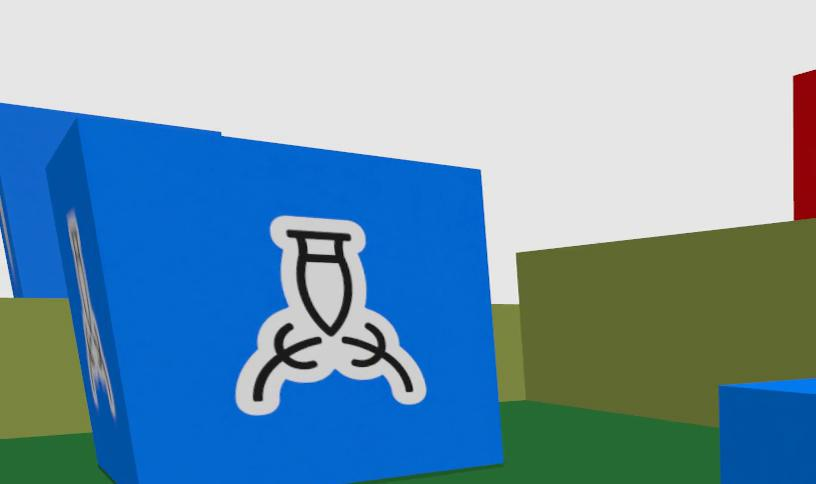KFS_FAKE: (793, 71, 816, 219)
KFS_REAL: (46, 118, 501, 484), (236, 216, 426, 415), (66, 210, 116, 417)
